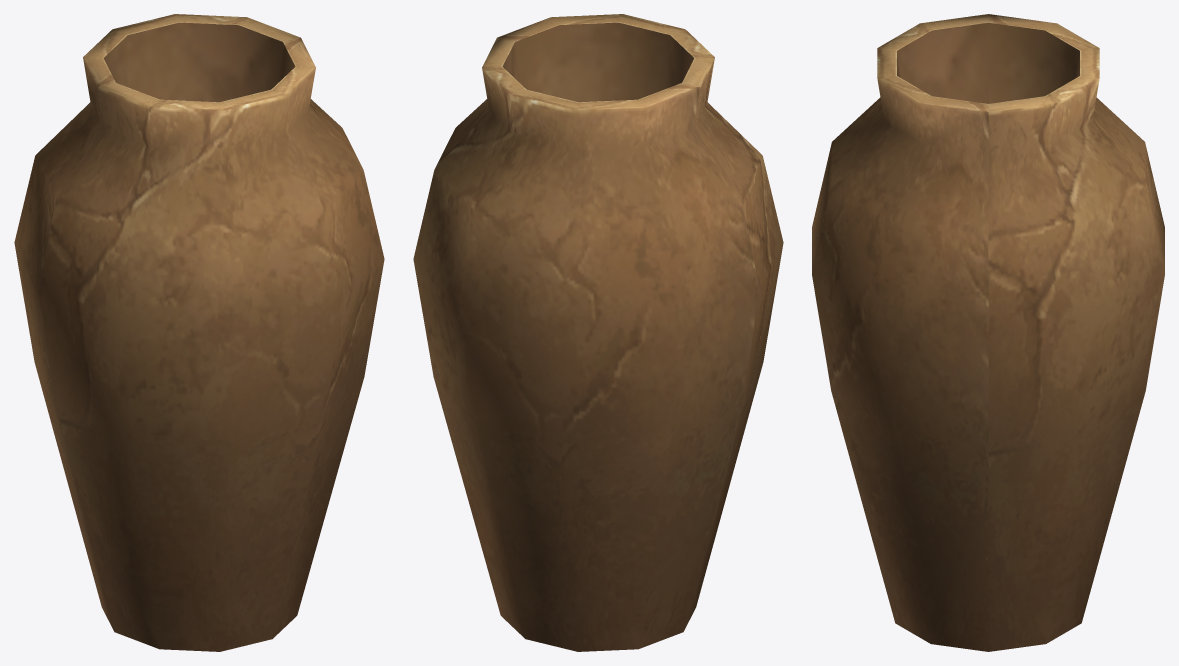
Rendered from Jug_01.FBX.
The picture shows the model from 3 angles, left to right: view 1: azimuth 30°, elevation 25°; view 2: azimuth 150°, elevation 25°; view 3: azimuth 270°, elevation 25°; orthographic projection.
Parts seen in each view (by area): view 1: Jug_01; view 2: Jug_01; view 3: Jug_01.
Boxes of the visible parts, x1,y1,x2,y2 form: Jug_01: [14, 14, 384, 651]; Jug_01: [413, 14, 783, 651]; Jug_01: [812, 14, 1164, 651].
Bounding box in the file's own units: 50.64 × 48.16 × 82.41.
